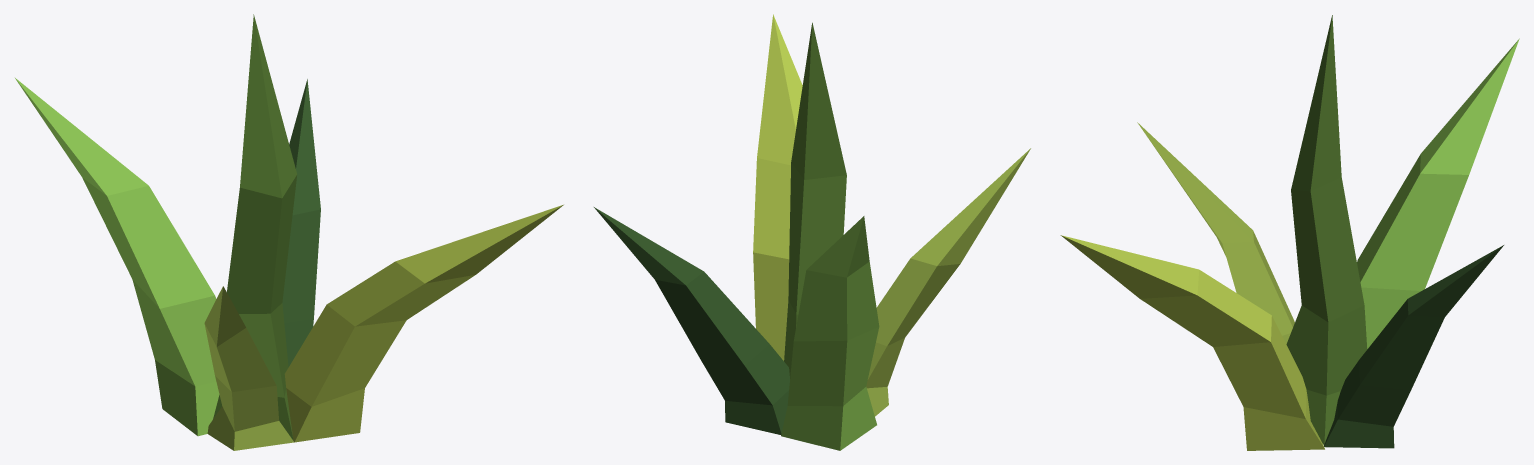
File: Grass_02.glb
3 views of the same model, side by side, from view 1: azimuth 30°, elevation 25°; view 2: azimuth 150°, elevation 25°; view 3: azimuth 270°, elevation 25° (orthographic). The views are drawn at different scales.
Visible parts, largest first — view 1: Grass_02; view 2: Grass_02; view 3: Grass_02.
Boxes of the visible parts, left/top/right/bottom form: Grass_02: left=15, top=14, right=563, bottom=450; Grass_02: left=594, top=14, right=1030, bottom=450; Grass_02: left=1060, top=15, right=1519, bottom=450.
Bounding box in the file's own units: 0.4867 × 0.5826 × 0.5982.
1 material, 1 textured.
